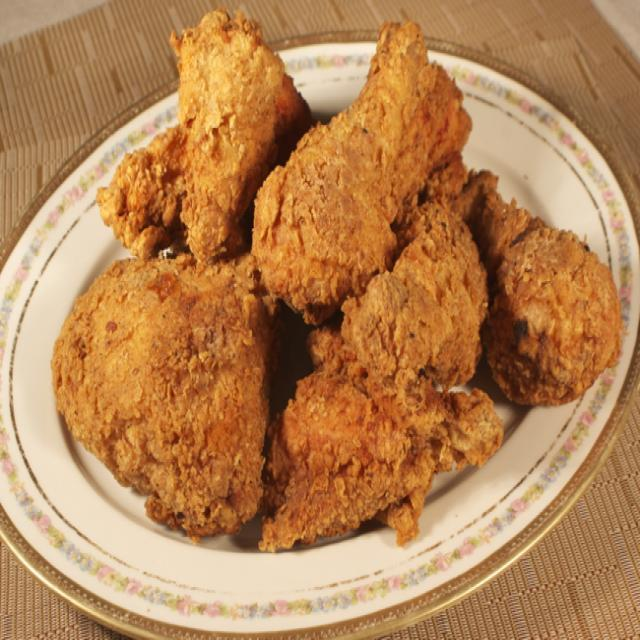Frango: (49, 8, 623, 552)
